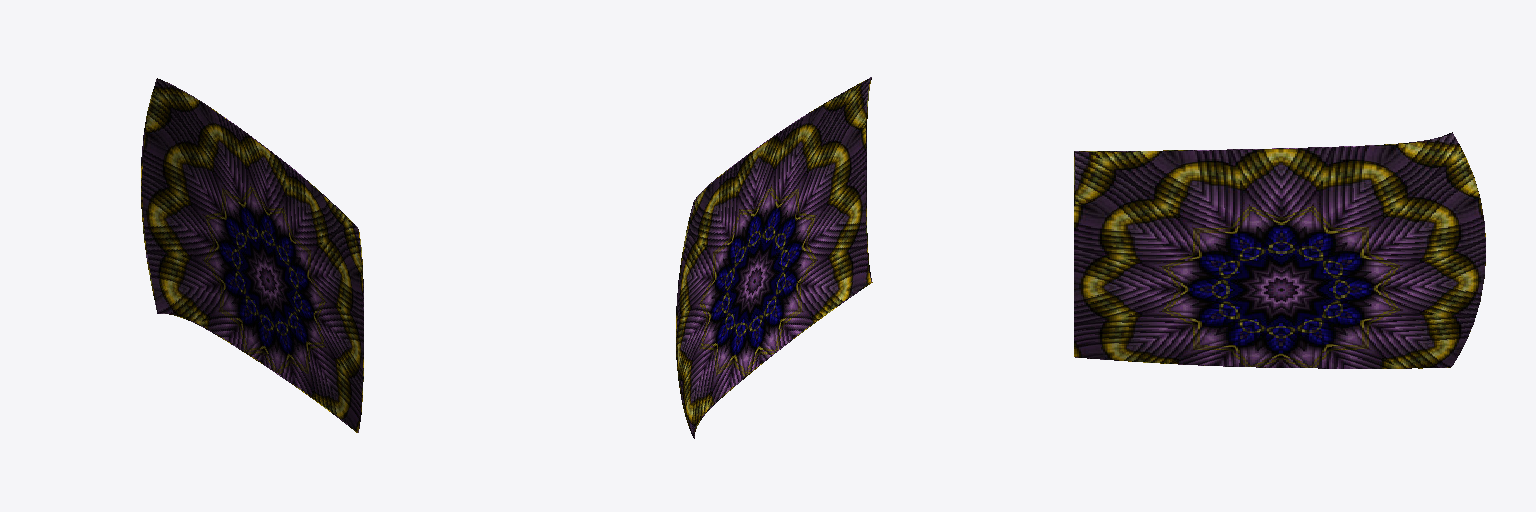
3 renders of one model, left to right at view 1: azimuth 30°, elevation 25°; view 2: azimuth 150°, elevation 25°; view 3: azimuth 270°, elevation 25°, orthographic.
Parts seen in each view (by area): view 1: Roof; view 2: Roof; view 3: Roof.
Boxes of the visible parts, x1,y1,x2,y2 form: Roof: [141, 78, 363, 432]; Roof: [676, 77, 872, 438]; Roof: [1074, 132, 1485, 368].
Bounding box in the file's own units: 0.1041 × 0.8984 × 1.43.
Materials: 1 (1 with a texture image).